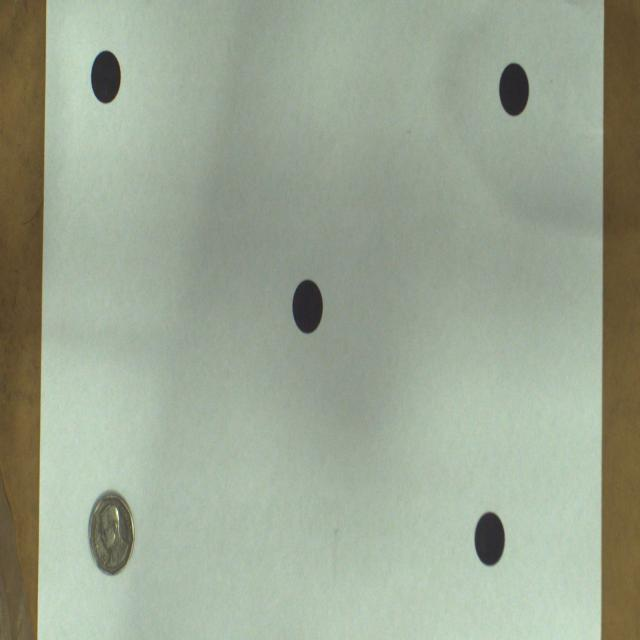head5bath: (89, 493, 134, 573)
space: (499, 62, 529, 116), (91, 51, 121, 104), (292, 280, 322, 333), (475, 513, 505, 564)
